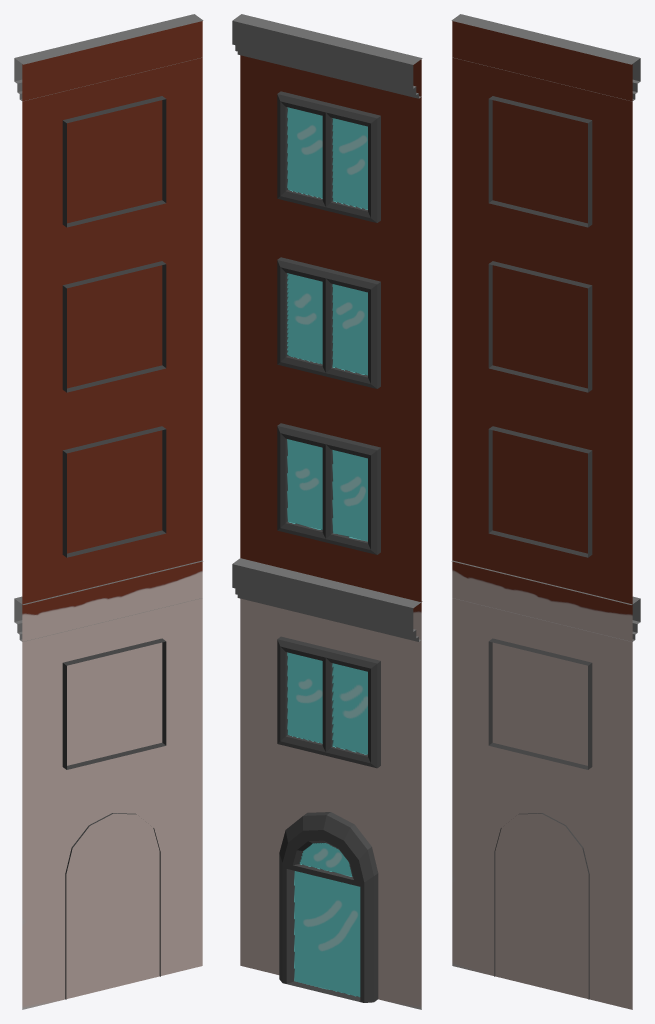
Rendered from SM_BuildingWall.fbx.
3 renders of one model, left to right at view 1: azimuth 30°, elevation 25°; view 2: azimuth 150°, elevation 25°; view 3: azimuth 330°, elevation 25°, orthographic.
Parts seen in each view (by area): view 1: SM_Window8; view 2: SM_Window8; view 3: SM_Window8.
Part boxes in pixels (box(x1,y1,x2,y2)): SM_Window8: box(14, 14, 203, 1009); SM_Window8: box(232, 14, 422, 1009); SM_Window8: box(451, 14, 640, 1009).
Bounding box in the file's own units: 400 × 2006 × 47.16.
Materials: 1 (1 with a texture image).
